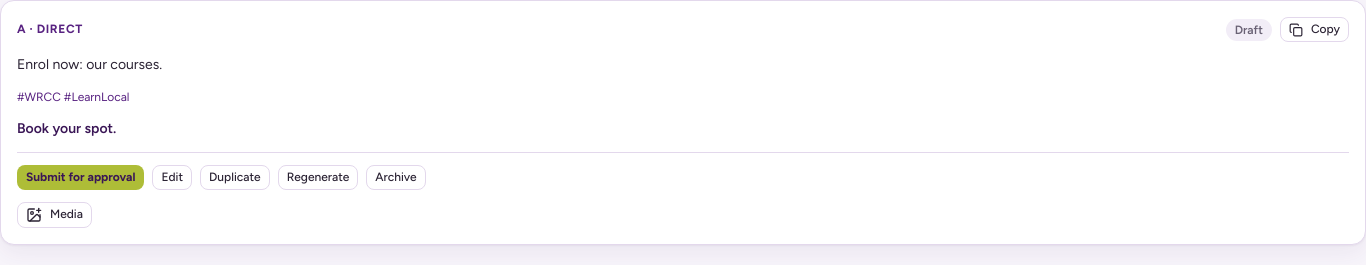
Test: VariantCard copy button › copies the whole post — body, CTA and hashtags
Click the button "Copy".
click(1314, 30)  # box [1280, 17, 1349, 42]
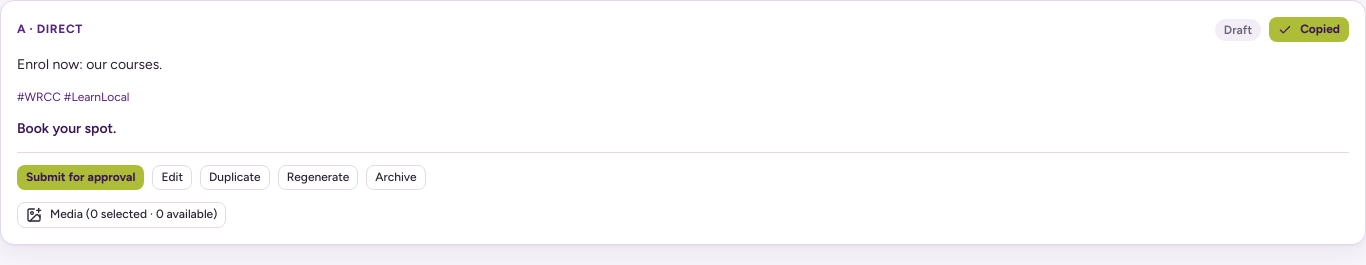
expect the button "Copied" is shown: met, box [1269, 17, 1349, 42]
